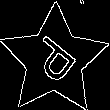P_SE: (24, 30, 84, 90)
